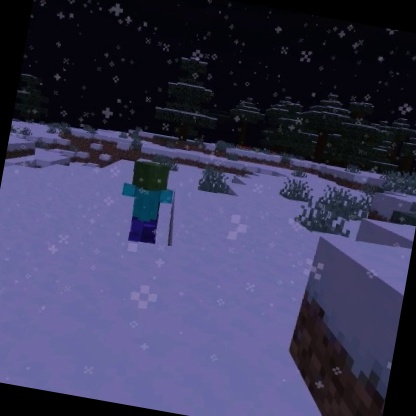zombie: (110, 154, 182, 248)
